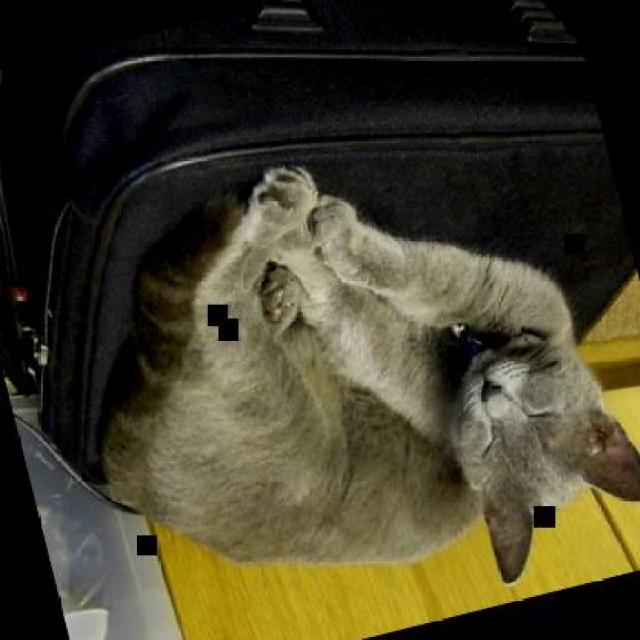cat: (41, 100, 638, 638)
